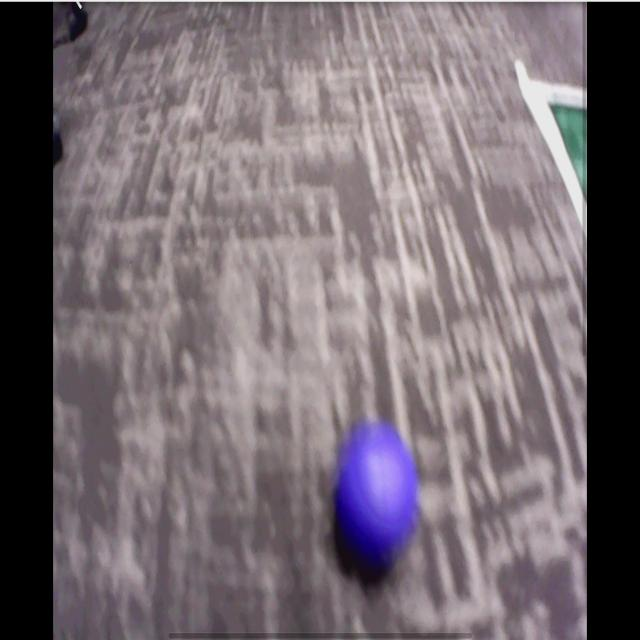ball: (338, 425, 418, 560)
